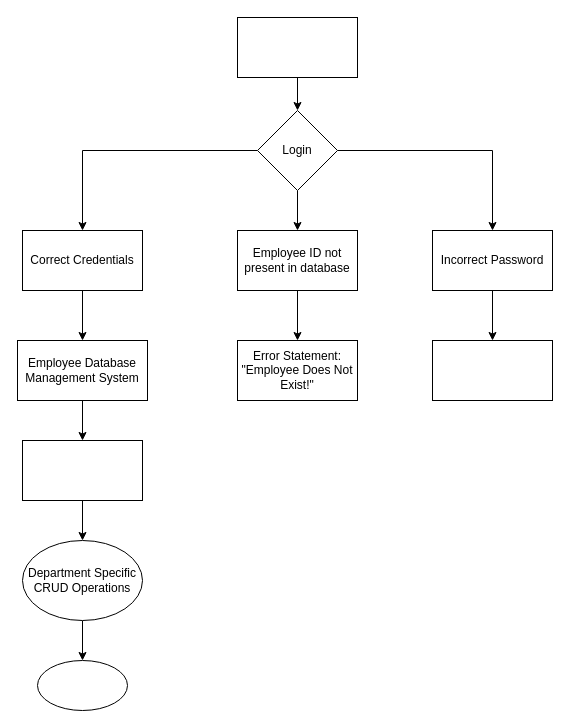
Image size: 570x728. Some labels were removed from this diagram. The centre of each missing label's shape, as x and y in pixels:
Employee Dashboard (As per department): point (82, 470)
Error Statement: "Incorrect Password!": point (492, 370)
Logout: point (82, 685)
User (Employee ): point (297, 47)
